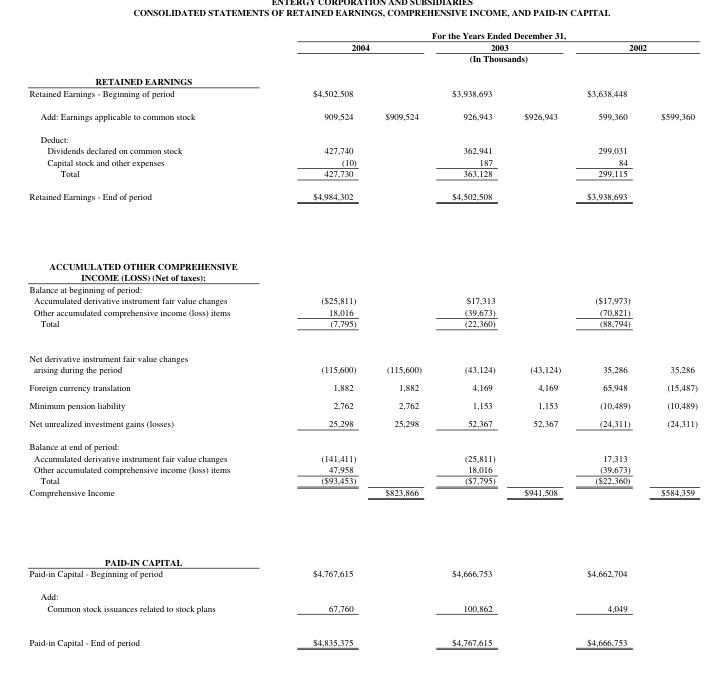table: (28, 28, 696, 647)
table column: (28, 28, 270, 647), (270, 28, 370, 647), (436, 28, 509, 647), (573, 28, 644, 647), (370, 28, 436, 647), (509, 28, 573, 647), (644, 28, 696, 647)
table column header: (28, 28, 696, 69)
table projected row header: (28, 230, 696, 282), (28, 526, 696, 567), (28, 340, 696, 363), (28, 126, 696, 144), (28, 69, 696, 86), (28, 434, 696, 451), (28, 584, 696, 601), (28, 282, 696, 294)
table row: (28, 230, 696, 282), (28, 184, 696, 230), (28, 485, 696, 526), (28, 526, 696, 567), (28, 103, 696, 126), (28, 317, 696, 340), (28, 340, 696, 363), (28, 601, 696, 624), (28, 624, 696, 647), (28, 413, 696, 434), (28, 126, 696, 144), (28, 377, 696, 395), (28, 395, 696, 413), (28, 52, 696, 69), (28, 69, 696, 86), (28, 86, 696, 103), (28, 167, 696, 184), (28, 434, 696, 451), (28, 567, 696, 584), (28, 584, 696, 601), (28, 363, 696, 377), (28, 28, 696, 40), (28, 40, 696, 52), (28, 155, 696, 167), (28, 282, 696, 294), (28, 305, 696, 317), (28, 451, 696, 463), (28, 144, 696, 155), (28, 294, 696, 305), (28, 463, 696, 474), (28, 474, 696, 485)
table spanning cell: (270, 52, 696, 69), (270, 28, 696, 40), (270, 40, 436, 52), (436, 40, 573, 52), (573, 40, 696, 52)
